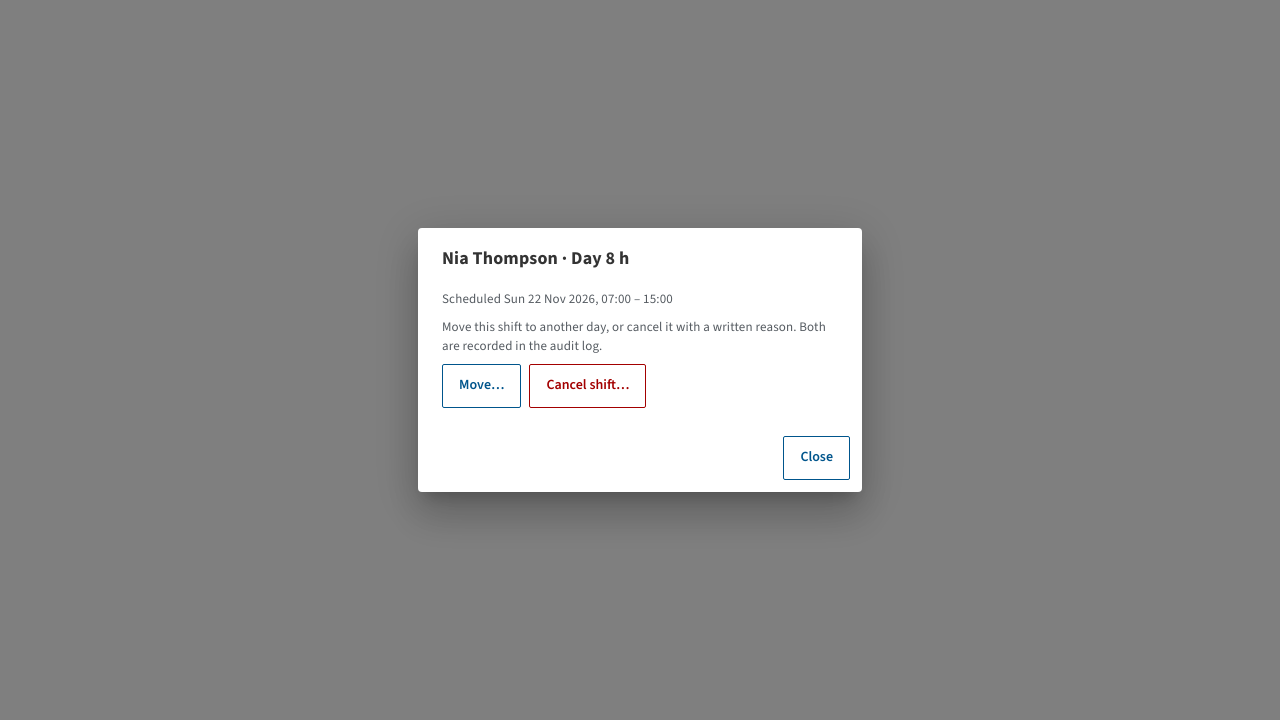
Test: the safeguards on a move › offers no override when a blocking rule cannot be overridden
The width and height of the screenshot is (1280, 720).
What coordinates should you click on to do the following:
click the button "Move…"
I would click on:
 (482, 386)
Its box is [442,364,522,408].
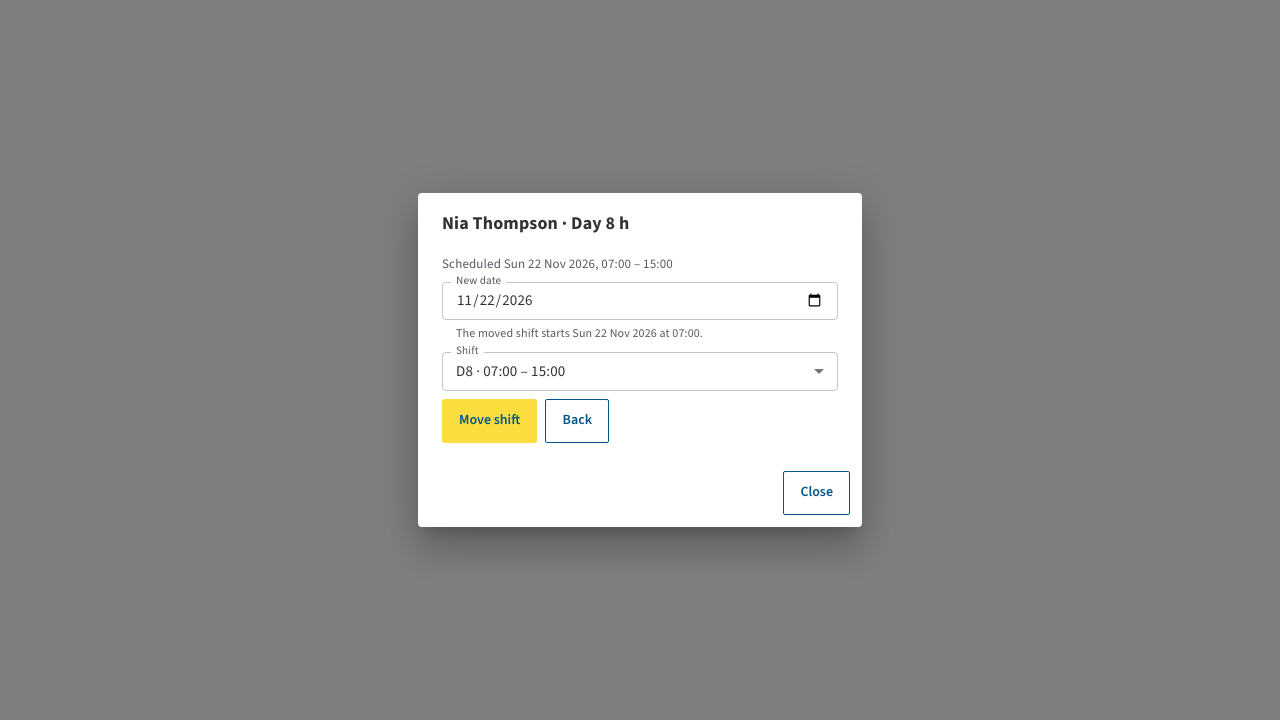
What coordinates should you click on to do the following:
click the button "Move shift"
I would click on:
 (490, 421)
Its box is [442,399,537,443].
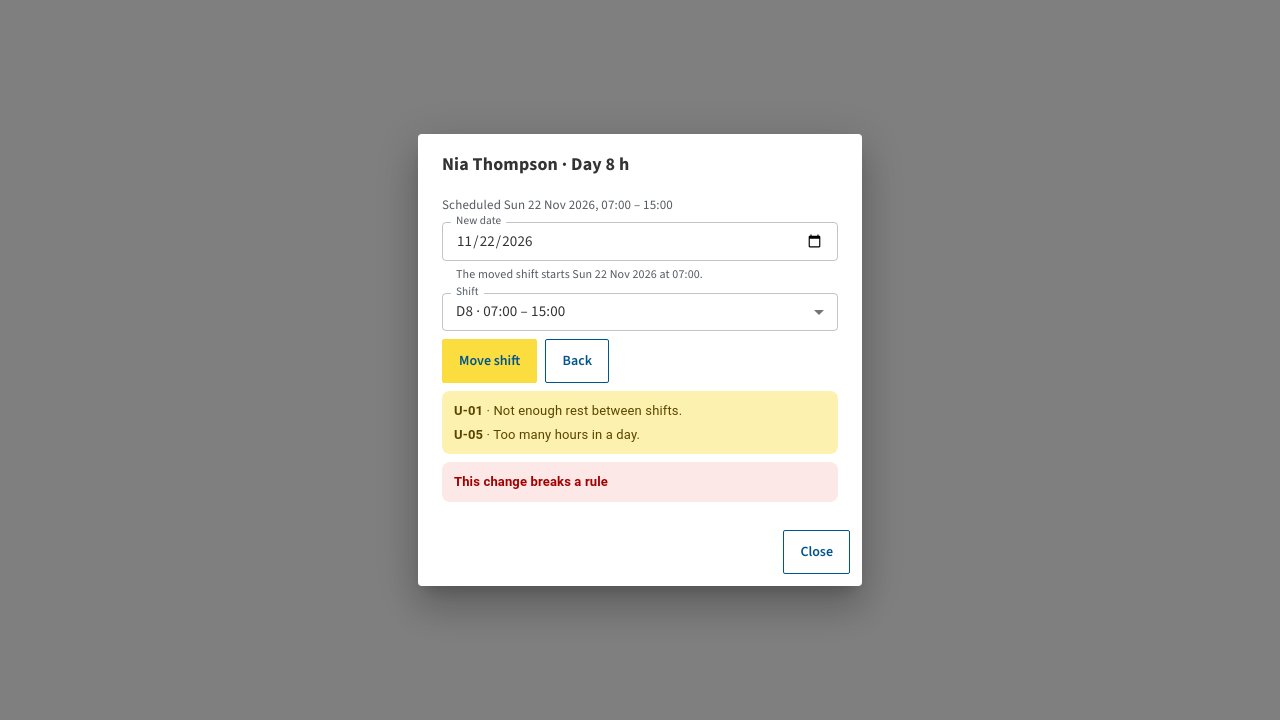
Now the text "U-05" is shown, box [454,427,483,442]
Now the text "U-05 · Too many hours in a day." is shown, box [454,427,640,442]
